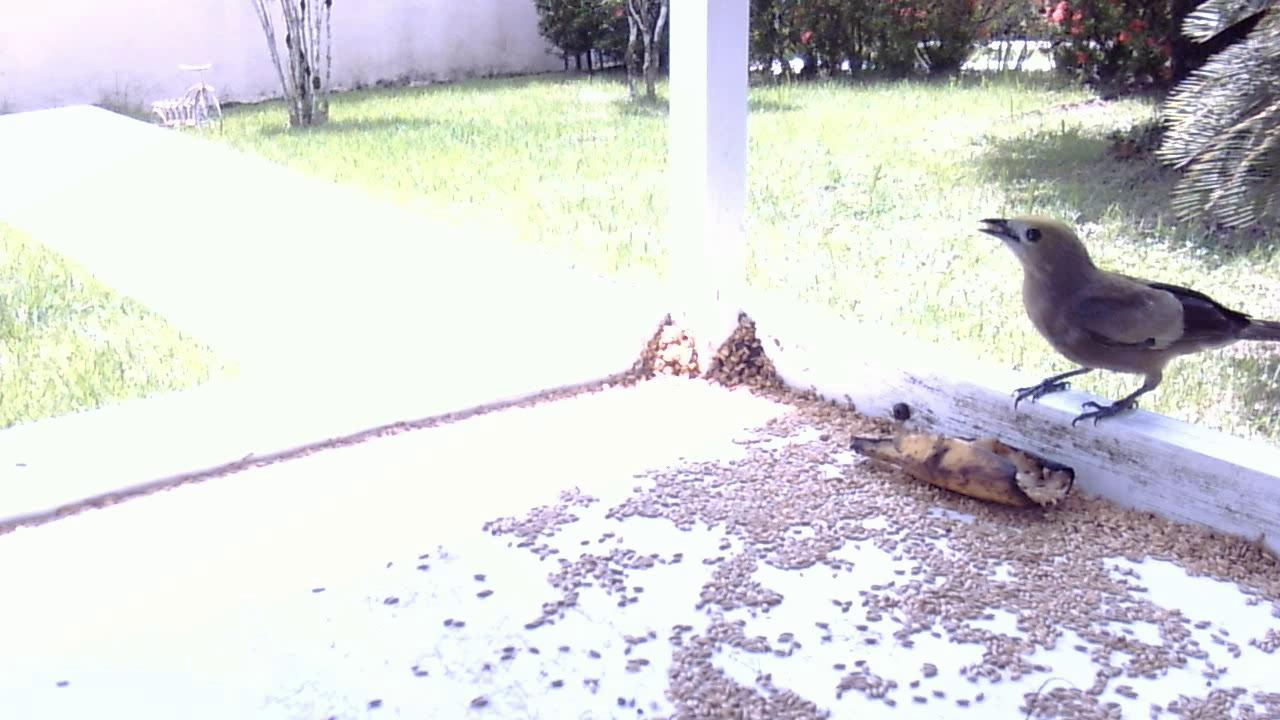sanhaco_do_coqueiro: (967, 212, 1272, 434)
